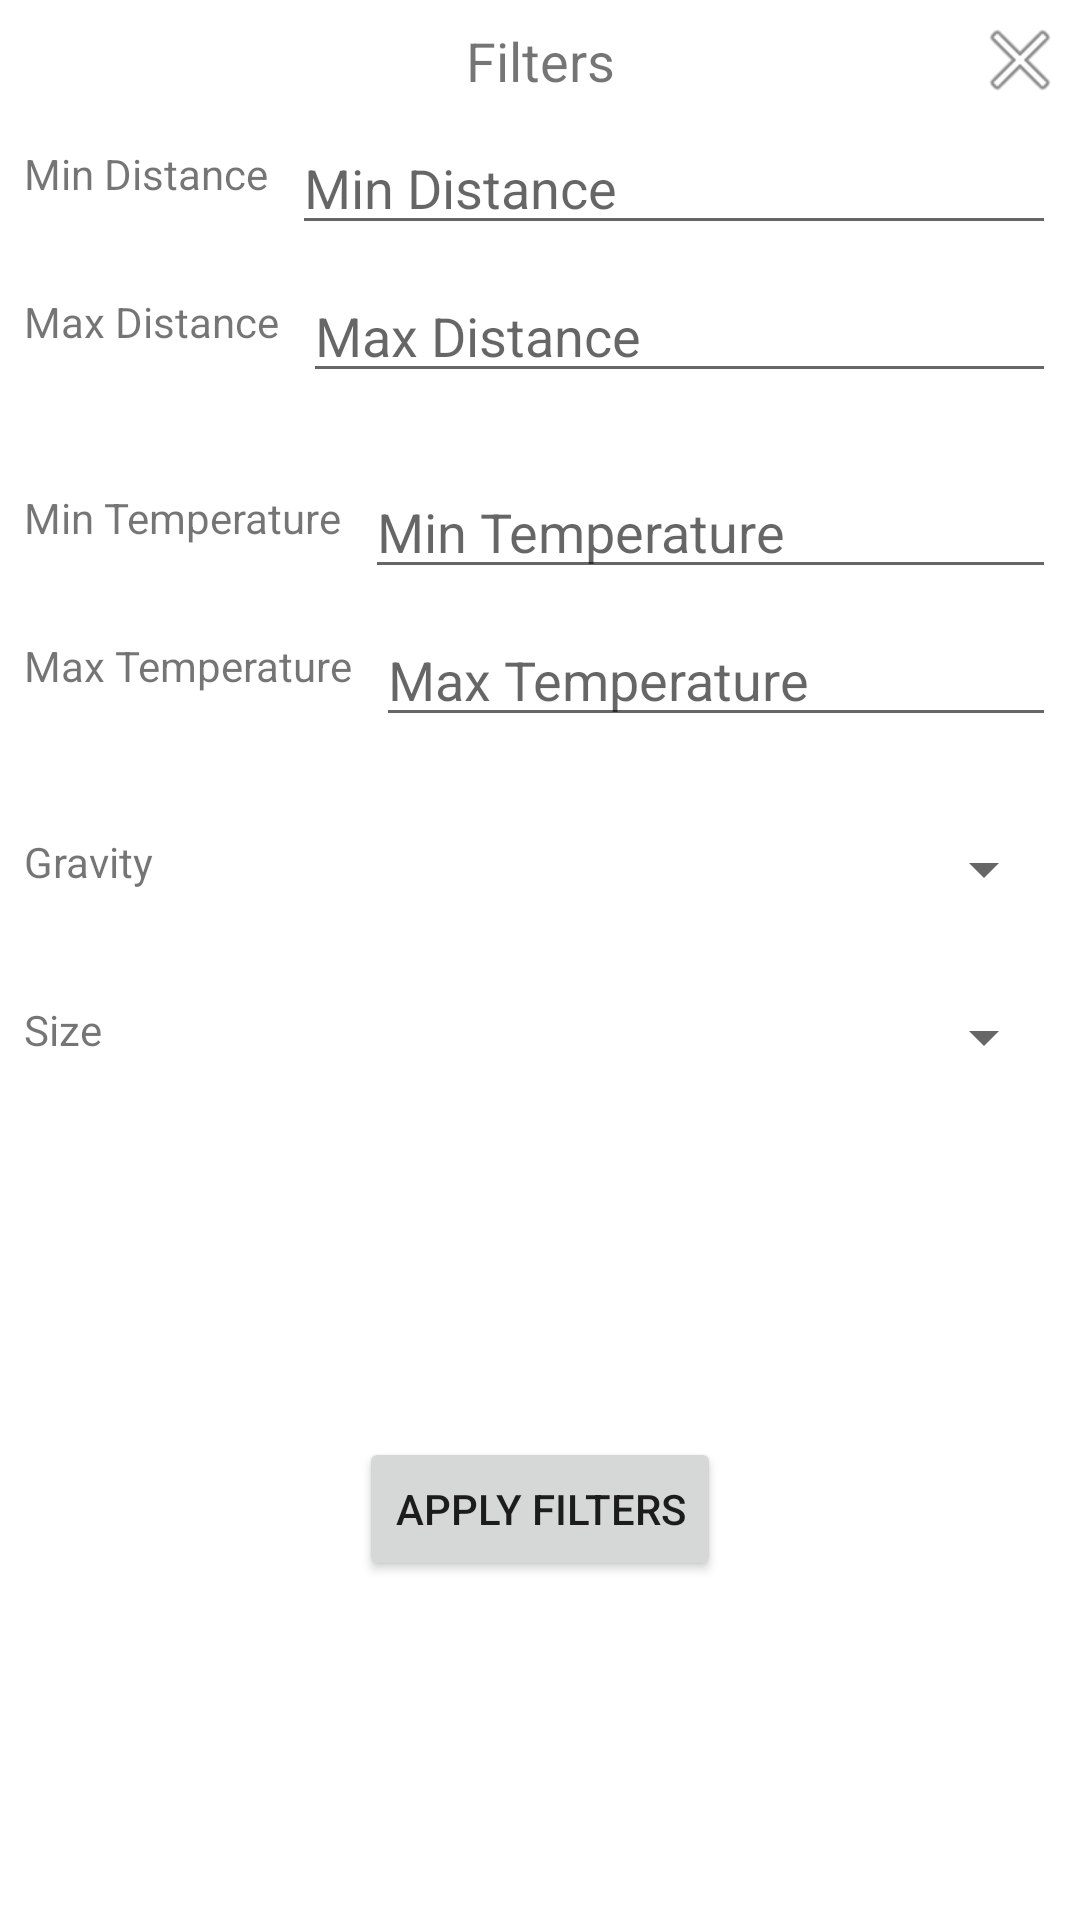

Icon bounding boxes for this 1080 x 1920 phone screenshot, format (x1, y1, x2, y2):
Closes the dialog window: (990, 30, 1050, 90)
